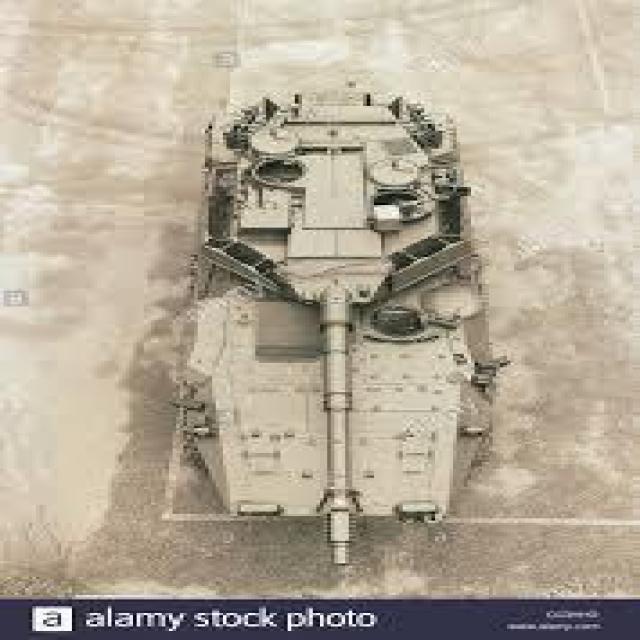Tanks: (178, 89, 491, 576)
